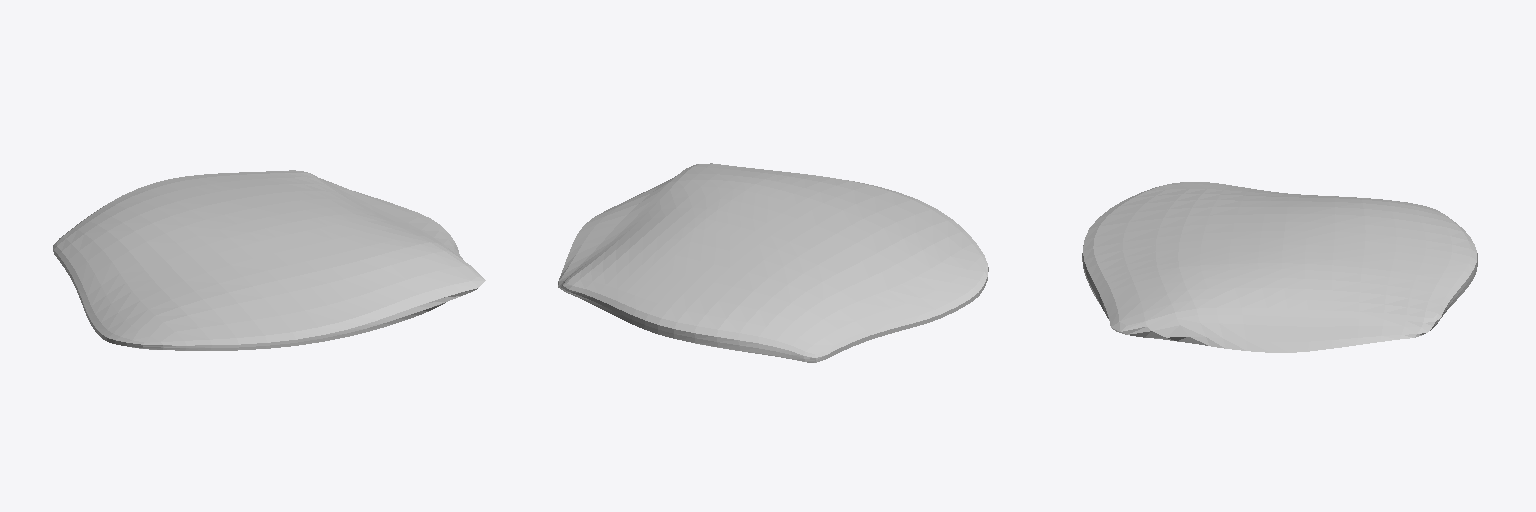
Rendered from mud2.obj.
The picture shows the model from 3 angles: view 1: azimuth 30°, elevation 25°; view 2: azimuth 150°, elevation 25°; view 3: azimuth 270°, elevation 25°; orthographic projection.
Parts seen in each view (by area): view 1: pCube1; view 2: pCube1; view 3: pCube1.
Part boxes in pixels (left/top/right/bottom): pCube1: left=53, top=170, right=485, bottom=350; pCube1: left=558, top=163, right=988, bottom=362; pCube1: left=1082, top=182, right=1477, bottom=352.
Bounding box in the file's own units: 12.6 × 1.59 × 12.01.